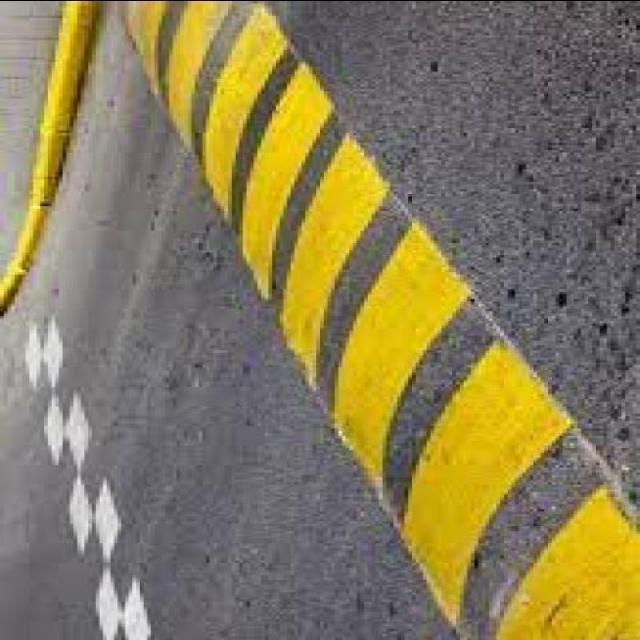Speed_Breaker: (110, 8, 640, 640), (119, 2, 639, 639)
